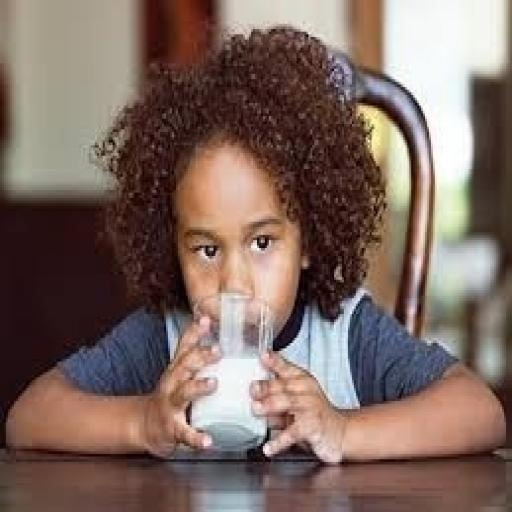drinking: (185, 100, 306, 452)
